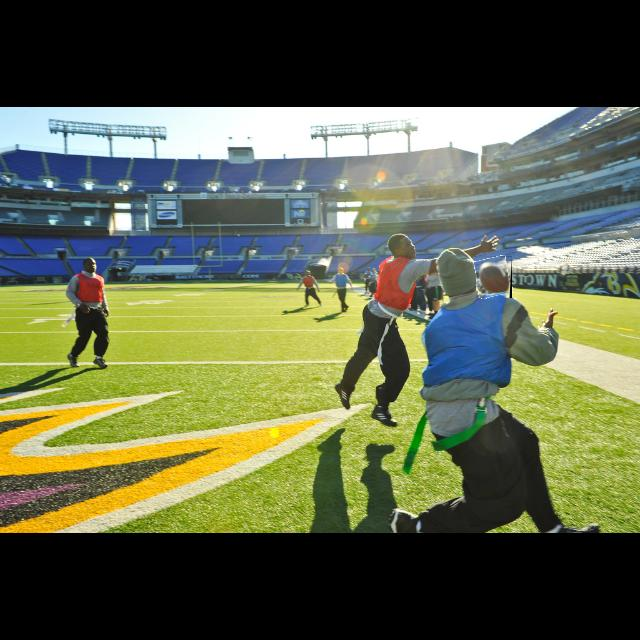Football: (476, 256, 512, 298)
